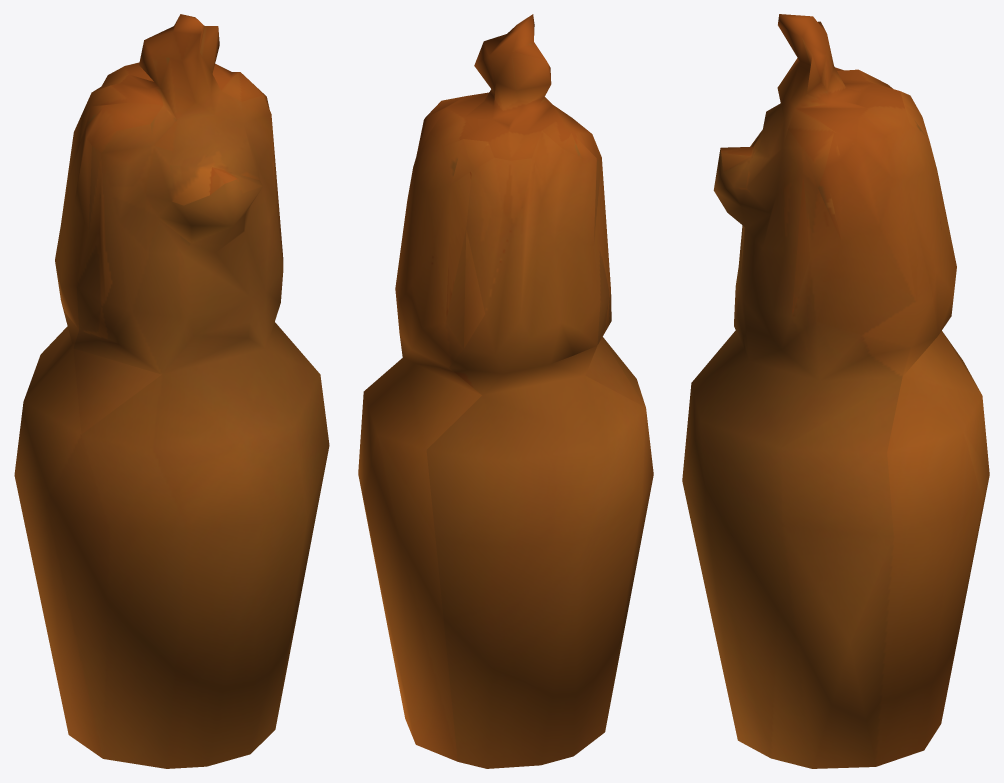
File: Canopic_Jar_Baboon.fbx
The picture shows the model from 3 angles, left to right: view 1: azimuth 30°, elevation 25°; view 2: azimuth 150°, elevation 25°; view 3: azimuth 270°, elevation 25°; orthographic projection. The views are drawn at different scales.
Visible parts, largest first — view 1: Canopic_Jar_Baboon; view 2: Canopic_Jar_Baboon; view 3: Canopic_Jar_Baboon.
Boxes of the visible parts, <box> form: Canopic_Jar_Baboon: <box>14,14,329,768</box>; Canopic_Jar_Baboon: <box>358,14,653,768</box>; Canopic_Jar_Baboon: <box>682,14,989,768</box>.
Bounding box in the file's own units: 17.09 × 44.57 × 17.4.
1 material, 1 textured.
